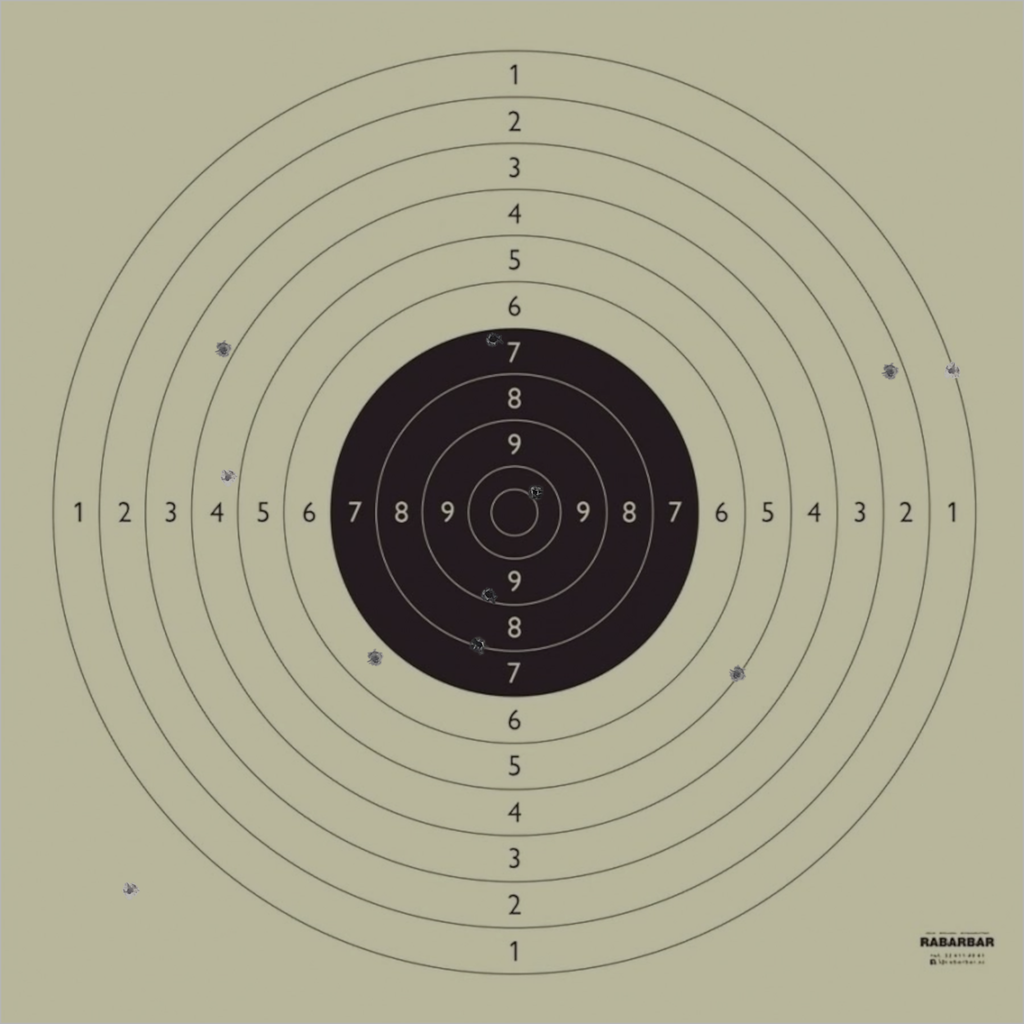0 punktow: (121, 881, 139, 900)
1 punkt: (943, 361, 961, 380)
10 punktow: (526, 483, 544, 501)
2 punkty: (881, 363, 899, 382)
3 punkty: (214, 341, 233, 359)
4 punkty: (219, 468, 237, 487)
5 punktow: (728, 665, 746, 684)
6 punktow: (366, 650, 384, 668)
7 punktow: (484, 330, 503, 349)
8 punktow: (470, 636, 489, 654)
9 punktow: (480, 586, 498, 604)
